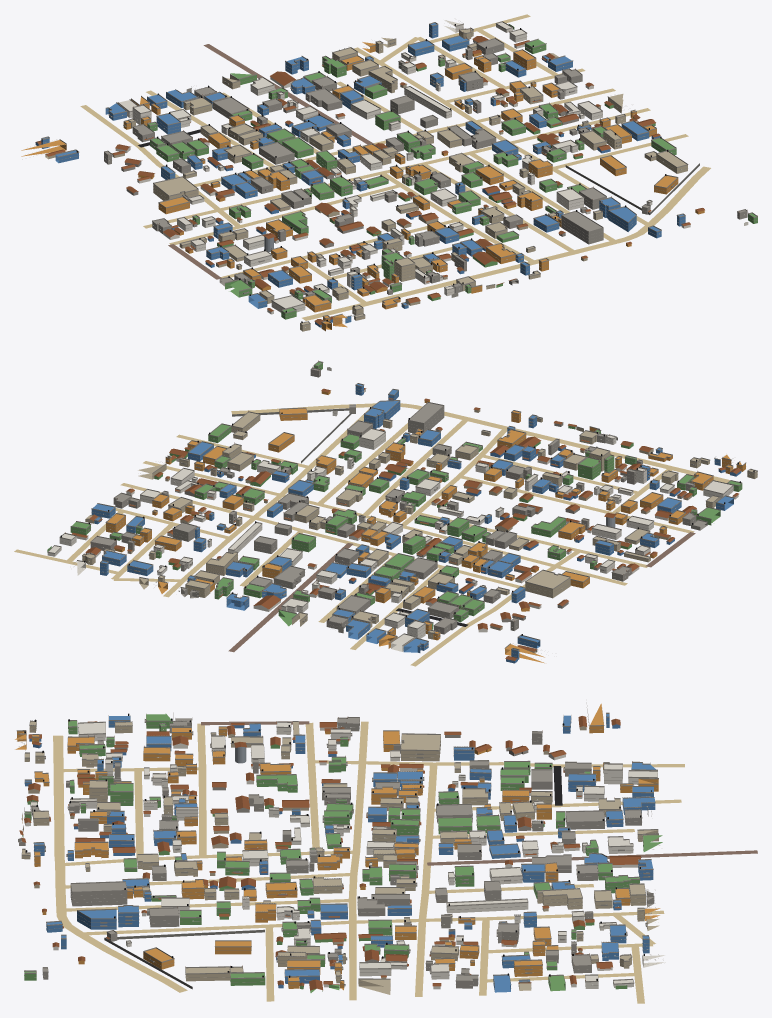
File: zone_t-3_0.glb
3 renders of one model, top to bottom at view 1: azimuth 30°, elevation 25°; view 2: azimuth 150°, elevation 25°; view 3: azimuth 270°, elevation 25°, orthographic. The views are drawn at different scales.
Visible parts, largest first — view 1: parapet_t-3_0, bld_peinture_bleu_t-3_0-col, bld_peinture_vert_t-3_0-col, bld_peinture_ecaillee_t-3_0-col, bld_peinture_ocre_t-3_0-col, bld_beton_t-3_0-col, route_residential_terre_t-3_0, bld_peinture_blanc_t-3_0-col, toit_tole_t-3_0, bandeau_t-3_0, route_tertiary_terre_t-3_0, route_residential_paves_t-3_0 (+1 smaller); view 2: parapet_t-3_0, bld_peinture_bleu_t-3_0-col, route_residential_terre_t-3_0, bld_peinture_ecaillee_t-3_0-col, bld_peinture_vert_t-3_0-col, bld_peinture_ocre_t-3_0-col, bld_beton_t-3_0-col, bld_peinture_blanc_t-3_0-col, toit_tole_t-3_0, bandeau_t-3_0, route_tertiary_terre_t-3_0, route_residential_paves_t-3_0 (+2 smaller); view 3: parapet_t-3_0, route_residential_terre_t-3_0, bld_peinture_bleu_t-3_0-col, bld_peinture_vert_t-3_0-col, bld_peinture_ecaillee_t-3_0-col, bld_peinture_ocre_t-3_0-col, bld_beton_t-3_0-col, bld_peinture_blanc_t-3_0-col, toit_tole_t-3_0, bandeau_t-3_0, route_tertiary_terre_t-3_0, route_residential_paves_t-3_0 (+3 smaller).
Boxes of the visible parts, box(x1,y1,x2,y2) form: parapet_t-3_0: box(41, 21, 757, 325); bld_peinture_bleu_t-3_0-col: box(35, 23, 685, 327); bld_peinture_vert_t-3_0-col: box(147, 24, 757, 319); bld_peinture_ecaillee_t-3_0-col: box(45, 29, 687, 331); bld_peinture_ocre_t-3_0-col: box(21, 42, 704, 331); bld_beton_t-3_0-col: box(104, 39, 747, 297); route_residential_terre_t-3_0: box(80, 14, 688, 302); bld_peinture_blanc_t-3_0-col: box(115, 20, 748, 314); toit_tole_t-3_0: box(35, 36, 704, 324); bandeau_t-3_0: box(22, 26, 757, 328); route_tertiary_terre_t-3_0: box(302, 166, 710, 320); route_residential_paves_t-3_0: box(168, 44, 374, 279); parapet_t-3_0: box(47, 361, 757, 651); bld_peinture_bleu_t-3_0-col: box(91, 384, 741, 663); route_residential_terre_t-3_0: box(14, 409, 694, 666); bld_peinture_ecaillee_t-3_0-col: box(82, 409, 757, 653); bld_peinture_vert_t-3_0-col: box(47, 362, 742, 629); bld_peinture_ocre_t-3_0-col: box(106, 390, 745, 663); bld_beton_t-3_0-col: box(90, 368, 707, 634); bld_peinture_blanc_t-3_0-col: box(47, 367, 738, 651); toit_tole_t-3_0: box(72, 388, 741, 660); bandeau_t-3_0: box(61, 366, 757, 657); route_tertiary_terre_t-3_0: box(231, 403, 729, 482); route_residential_paves_t-3_0: box(228, 532, 695, 652); parapet_t-3_0: box(16, 702, 663, 986); route_residential_terre_t-3_0: box(63, 721, 684, 1003); bld_peinture_bleu_t-3_0-col: box(24, 714, 655, 992); bld_peinture_vert_t-3_0-col: box(22, 713, 662, 992); bld_peinture_ecaillee_t-3_0-col: box(21, 721, 659, 994); bld_peinture_ocre_t-3_0-col: box(15, 703, 660, 990); bld_beton_t-3_0-col: box(18, 718, 654, 988); bld_peinture_blanc_t-3_0-col: box(24, 722, 665, 989); toit_tole_t-3_0: box(19, 716, 640, 990); bandeau_t-3_0: box(17, 707, 658, 990); route_tertiary_terre_t-3_0: box(53, 735, 187, 992); route_residential_paves_t-3_0: box(201, 721, 757, 865).
Size of the model in its own units: 564 by 17 by 590.
